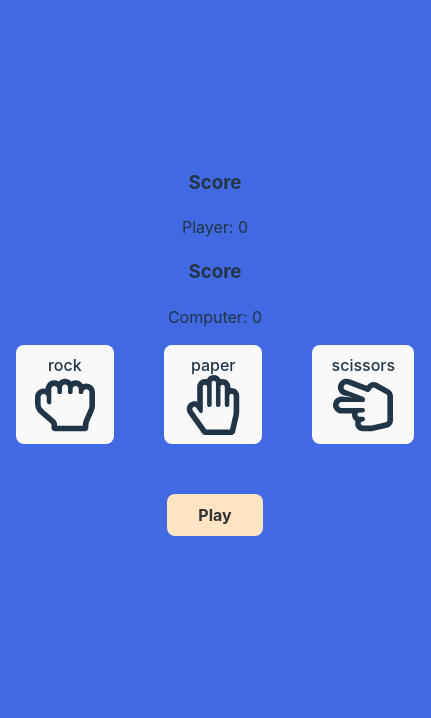
ScoreAndResults › should dispaly a message on the page - Computer wins!
This screenshot has width=431, height=718.
Click the button "scissors": (363, 394) [312,345,414,444]
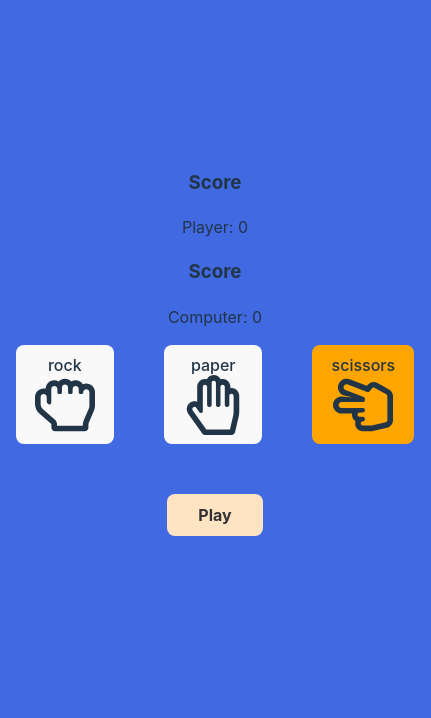
Click the button "Play": (215, 515) [167,494,263,536]
Wait 3000 ms
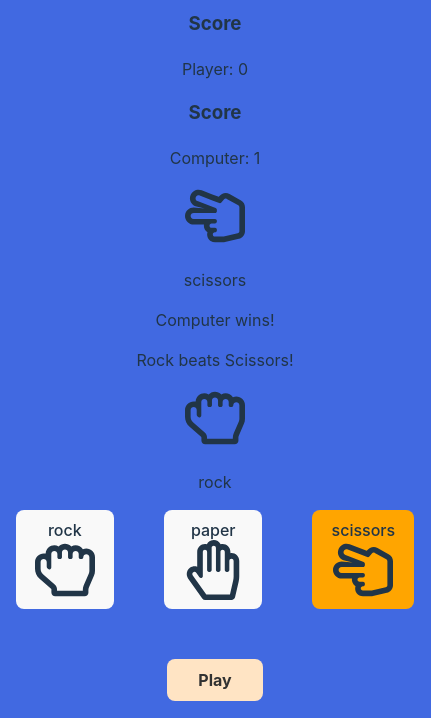
Check: the text "Computer wins!" is shown, box [156,310,274,330]
Check: the text "Rock beats Scissors!" is shown, box [136,350,294,370]
Check: the text "Computer: 1" is shown, box [170,148,260,168]
